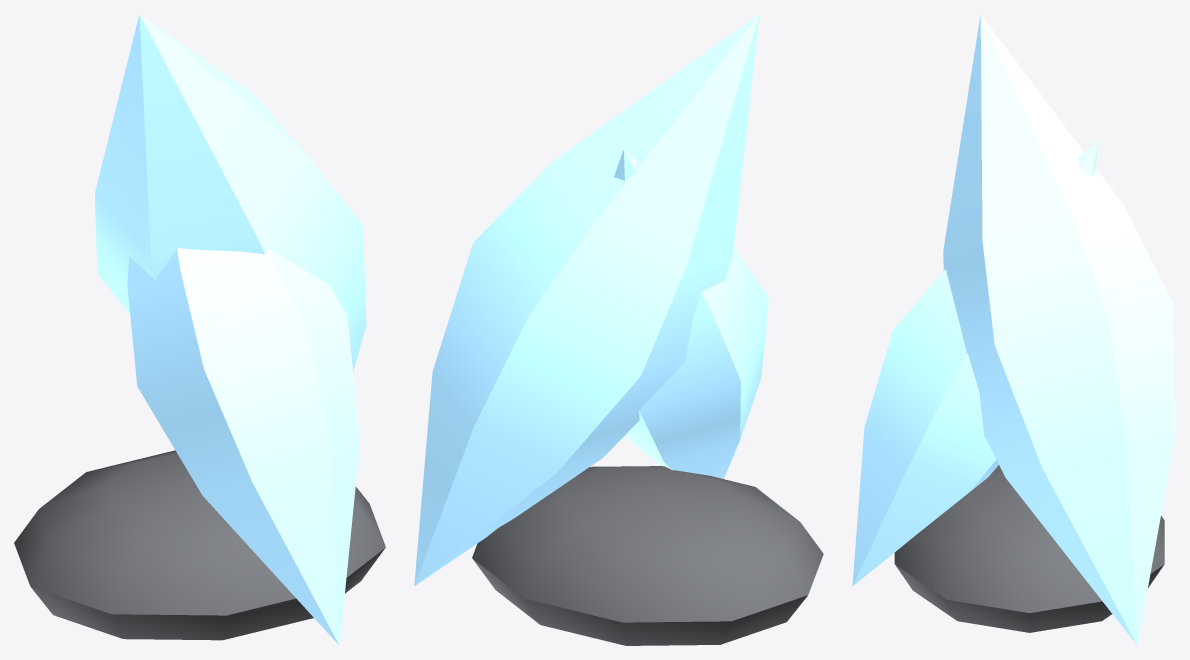
File: rime_shard.glb
3 views of the same model, side by side, from view 1: azimuth 30°, elevation 25°; view 2: azimuth 150°, elevation 25°; view 3: azimuth 270°, elevation 25° (orthographic). The views are drawn at different scales.
Parts seen in each view (by area): view 1: rime_shard; view 2: rime_shard; view 3: rime_shard.
Boxes of the visible parts, box(x1,y1,x2,y2) form: rime_shard: box(14, 14, 385, 645); rime_shard: box(414, 14, 823, 645); rime_shard: box(852, 14, 1175, 645).
Size of the model in its own units: 0.0949 by 0.1645 by 0.0877.
